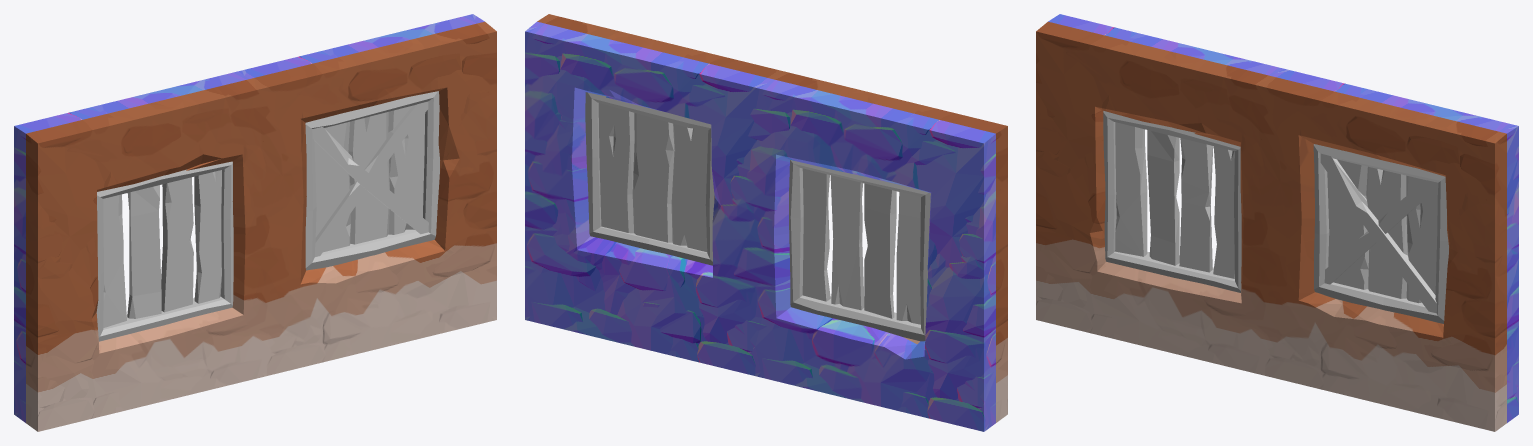
Rendered from SM_Bld_Wall_Window_Half_02.fbx.
3 renders of one model, left to right at view 1: azimuth 30°, elevation 25°; view 2: azimuth 150°, elevation 25°; view 3: azimuth 330°, elevation 25°, orthographic.
Parts seen in each view (by area): view 1: SM_Bld_Wall_Window_Half_02; view 2: SM_Bld_Wall_Window_Half_02; view 3: SM_Bld_Wall_Window_Half_02.
Boxes of the visible parts, x1,y1,x2,y2 form: SM_Bld_Wall_Window_Half_02: (14, 14, 496, 431); SM_Bld_Wall_Window_Half_02: (525, 14, 1007, 431); SM_Bld_Wall_Window_Half_02: (1036, 14, 1518, 431).
Bounding box in the file's own units: 250 × 151 × 22.5.
